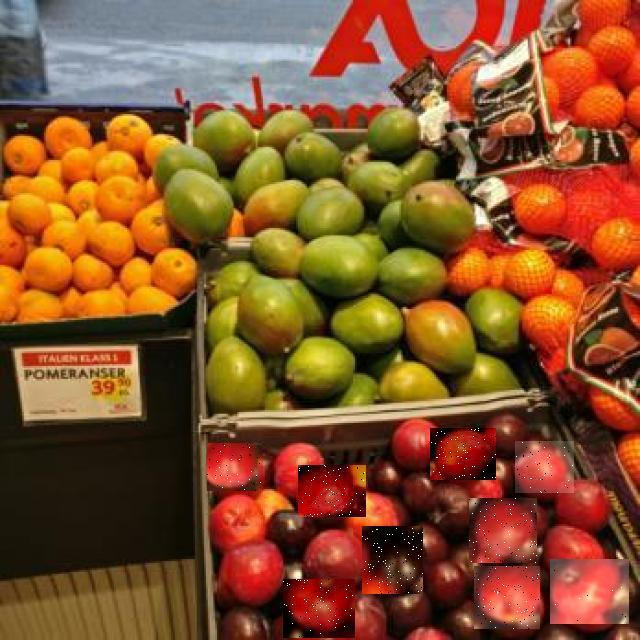Plum: (550, 559, 629, 624), (469, 498, 537, 563), (283, 579, 355, 638), (475, 566, 541, 629), (362, 526, 423, 594), (298, 465, 366, 517), (431, 429, 497, 481), (515, 441, 574, 493), (208, 443, 262, 491)
